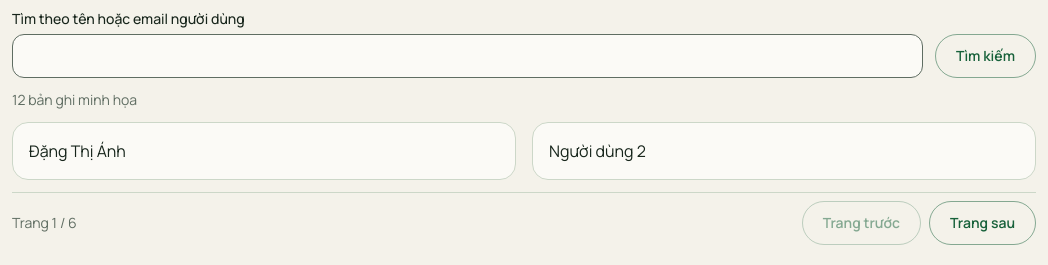
Scenario: Admin record list › supports immediate accent-insensitive search on submit and resets the page
Click the button "Trang sau" at coordinates (983, 223), box [929, 201, 1036, 245]
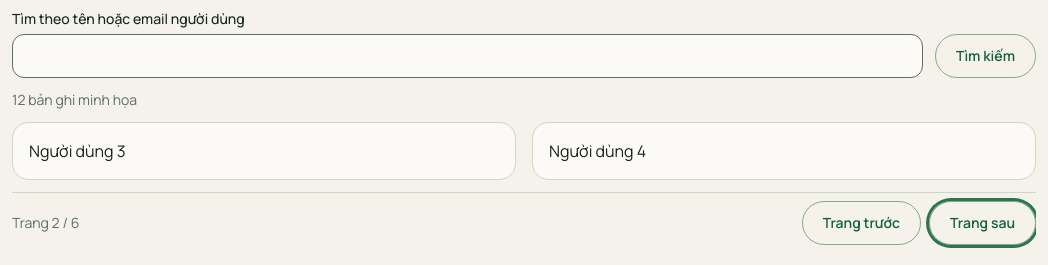
Type "  DANG thi anh  " into the field at coordinates (468, 56), box [12, 34, 923, 78]
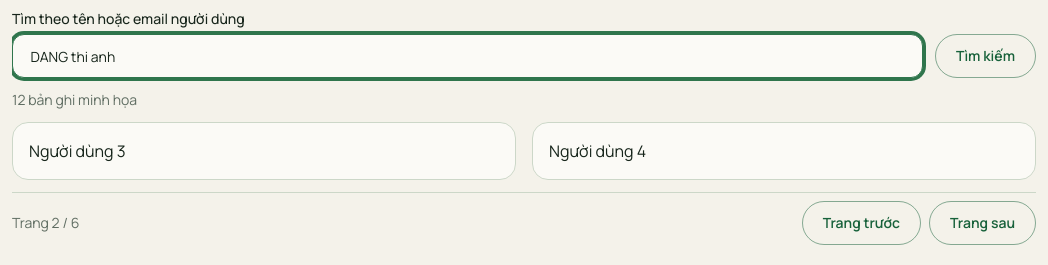
Result: the text "Người dùng 3" is shown at [29, 140, 126, 162]
Click the button "Tìm kiếm" at coordinates (986, 56), box [935, 34, 1036, 78]
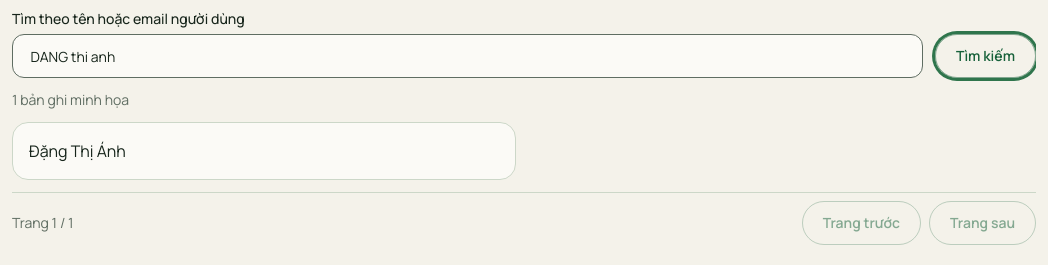
Result: the number of list items is 1 at [12, 122, 516, 180]
Result: the text "Đặng Thị Ánh" is shown at [29, 140, 126, 162]
Result: the text "Trang 1 / 1" is shown at [12, 213, 74, 233]
